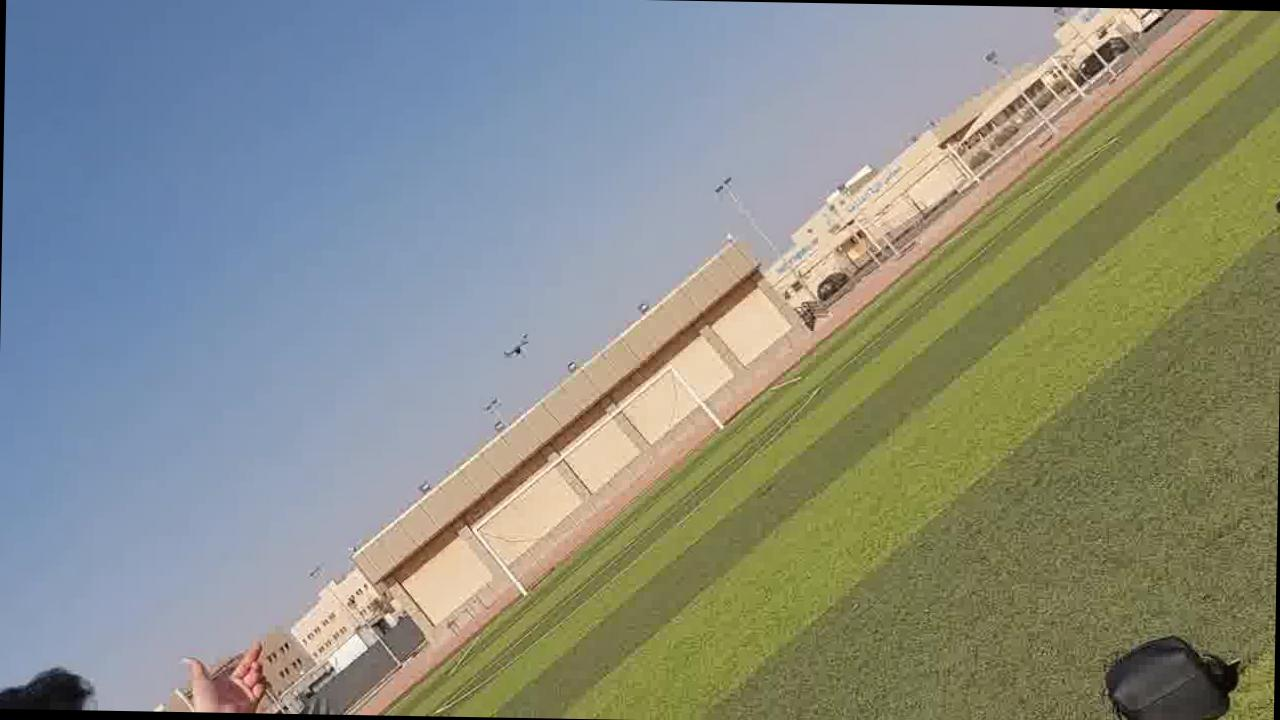drone: (497, 324, 537, 362)
